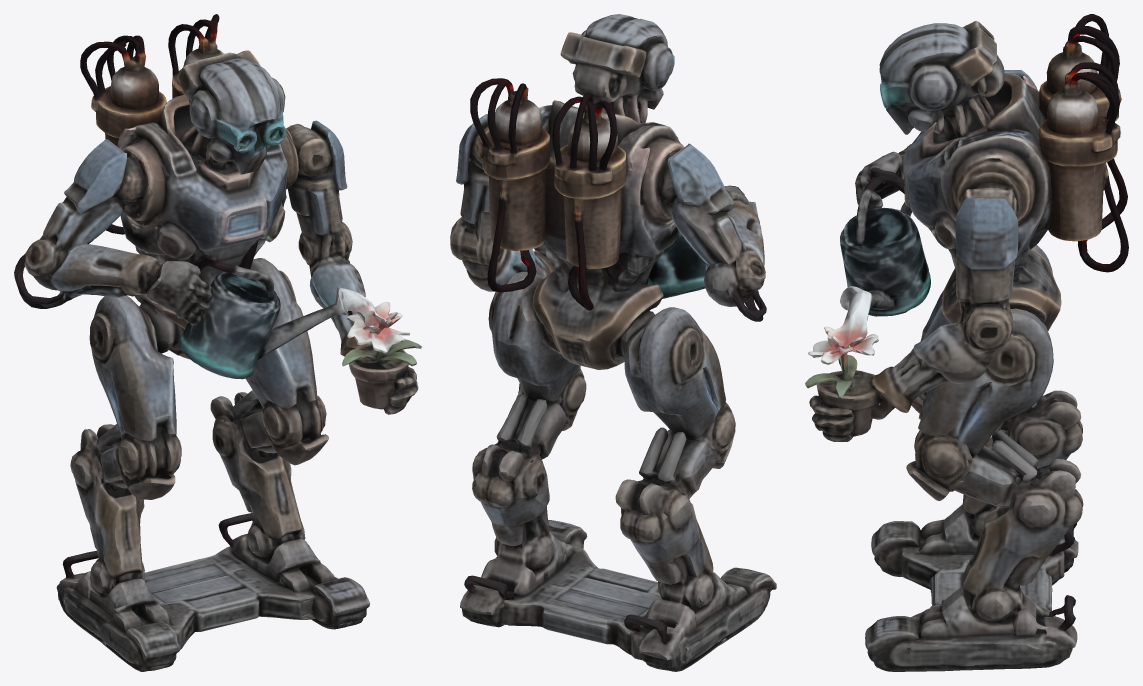
The model's file is robot-flower.glb.
The picture shows the model from 3 angles, left to right: view 1: azimuth 30°, elevation 25°; view 2: azimuth 150°, elevation 25°; view 3: azimuth 270°, elevation 25°; orthographic projection. The views are drawn at different scales.
Parts seen in each view (by area): view 1: world; view 2: world; view 3: world.
Boxes of the visible parts, x1,y1,x2,y2 form: world: (14, 14, 421, 671); world: (450, 14, 776, 671); world: (805, 14, 1128, 671).
Size of the model in its own units: 0.2046 by 0.35 by 0.1738.
Materials: 1 (1 with a texture image).
